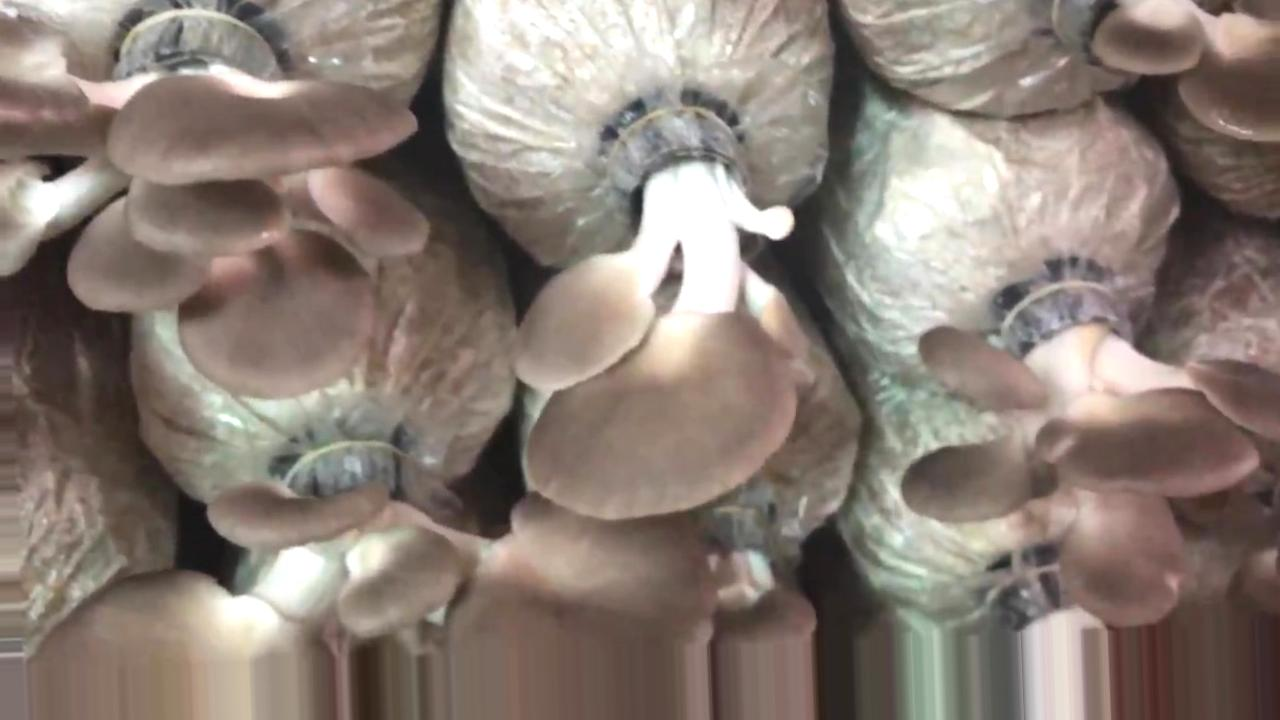nam: (24, 459, 816, 717), (1, 10, 434, 396), (518, 102, 805, 523), (914, 299, 1280, 611), (1091, 1, 1276, 145)
